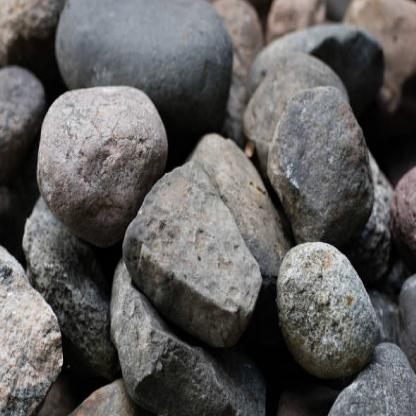Sedimentary_Limestone: (117, 158, 256, 348), (54, 0, 234, 142), (34, 93, 184, 239), (263, 82, 381, 247), (278, 238, 381, 392), (0, 236, 64, 415), (107, 262, 184, 409), (321, 344, 415, 415), (0, 62, 47, 184), (67, 370, 137, 415), (395, 157, 415, 253), (396, 276, 416, 325)
